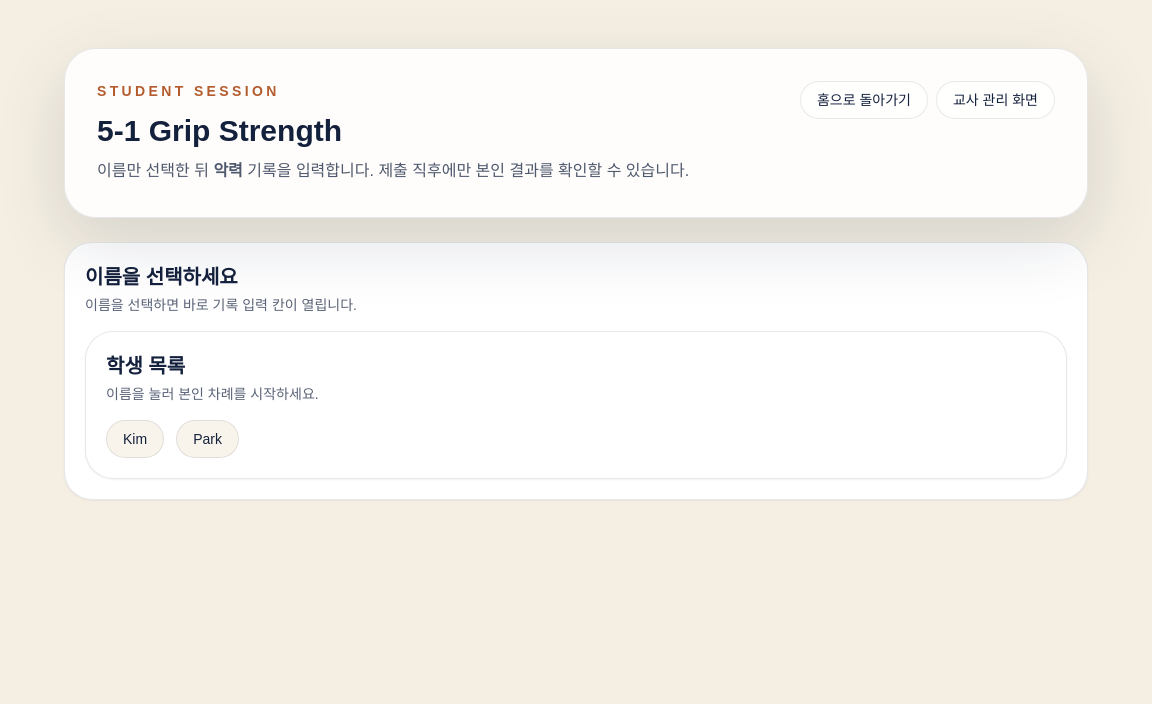
Test case: student session flow › renders bilateral grip-strength inputs with side-specific labels
Click the button "Kim".
click(135, 439)  # box [106,420,164,458]
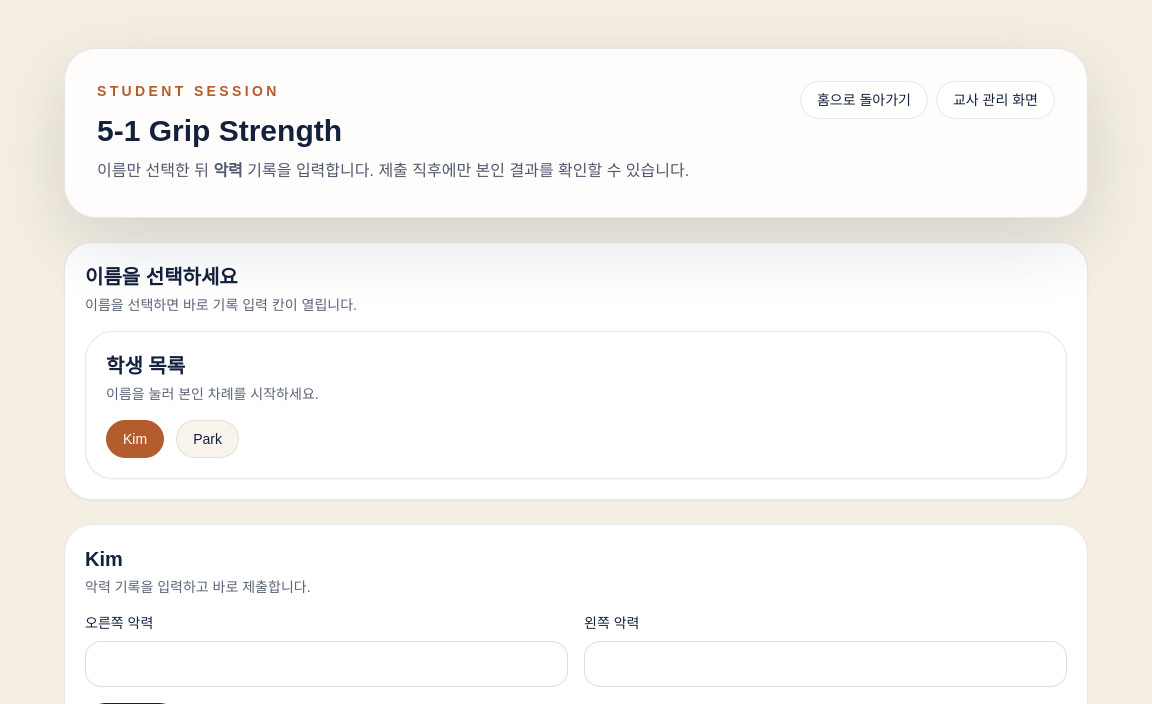
Expected: the number field labelled "오른쪽 악력" is shown, [85,641,568,687]
Expected: the number field labelled "왼쪽 악력" is shown, [584,641,1067,687]
